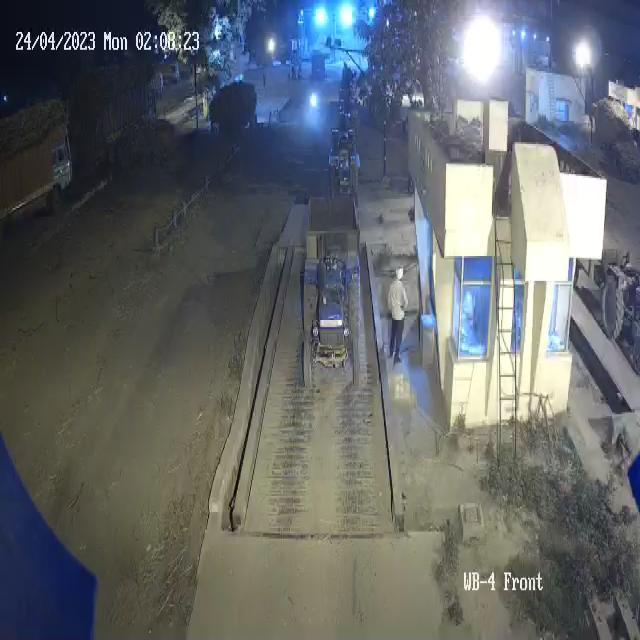Tratores - v5 YOLO V8L 2024-11-13: (298, 255, 363, 388)
